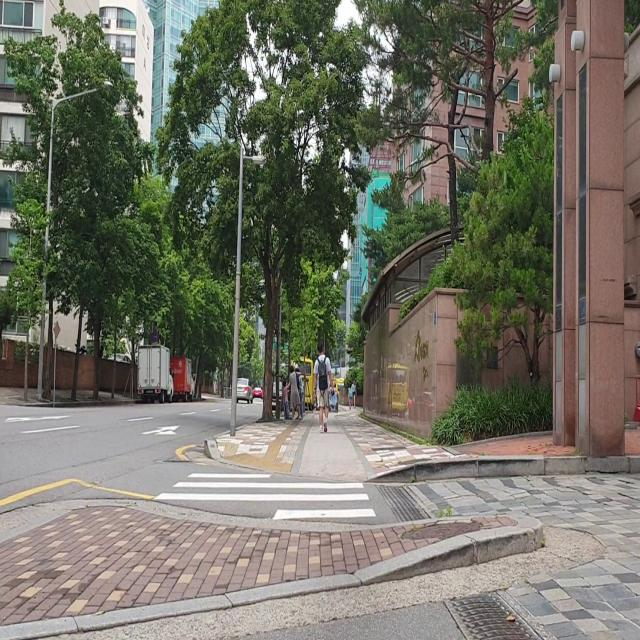횡단보도: (152, 471, 377, 523)
